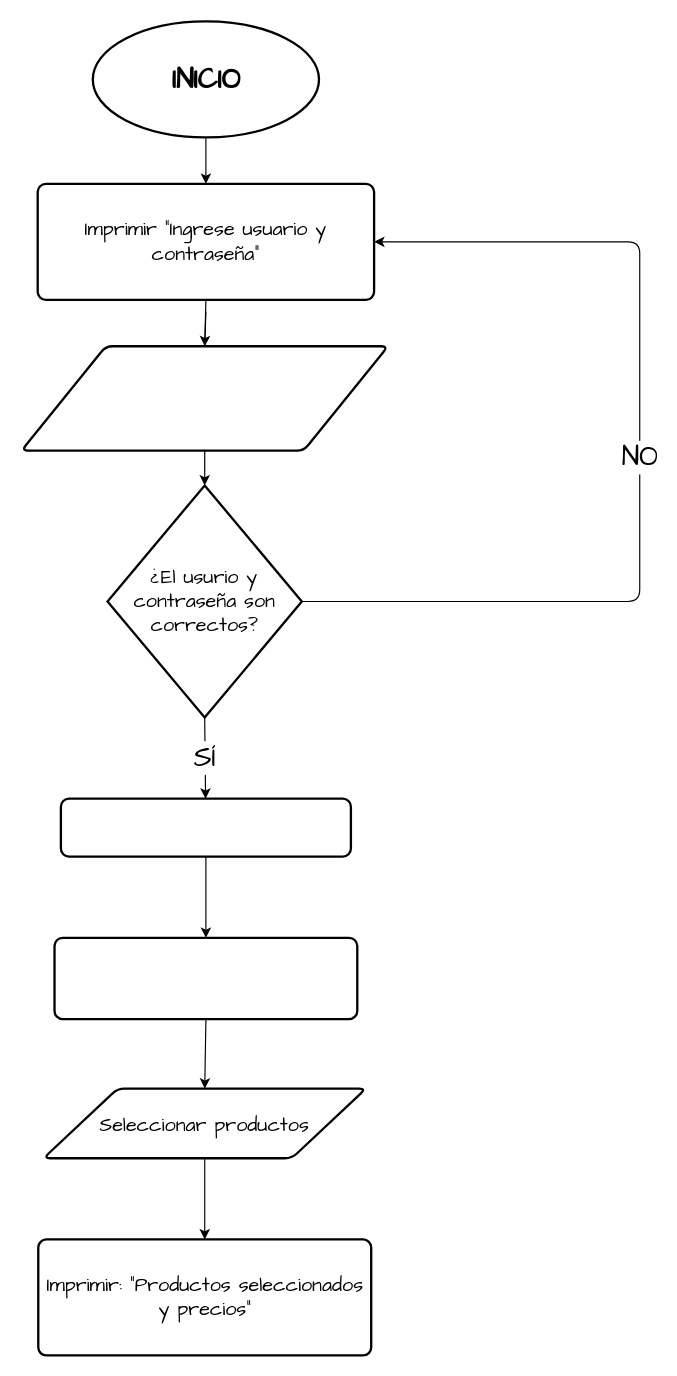
The diagram is 677 pixels wide and 1376 high, and some of its shapes have lost their labels. The centre of each missing label's shape, as x and y in pixels:
Cambiar de pantalla: point 205,827
Imprimir: "Nombre y Datos del Cliente": point 205,978
Leer: Usuario y Contraseña: point 204,398
